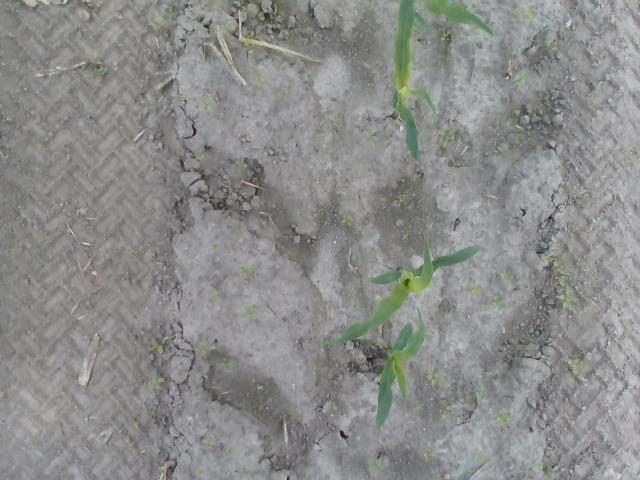Maize: (304, 230, 482, 347), (392, 2, 437, 161), (376, 303, 426, 428), (400, 0, 496, 38)
Weeds: (539, 254, 578, 309), (438, 125, 462, 152), (527, 462, 562, 478), (84, 58, 111, 78), (568, 356, 591, 377), (511, 5, 536, 22), (512, 70, 538, 86), (496, 407, 514, 430), (425, 371, 448, 388), (146, 338, 166, 357), (251, 70, 265, 96), (197, 340, 211, 364), (242, 32, 258, 52), (148, 16, 166, 33), (368, 458, 386, 475), (362, 127, 380, 144), (474, 382, 484, 409), (217, 358, 237, 371), (198, 96, 214, 112), (468, 283, 484, 299), (242, 304, 256, 322), (150, 376, 164, 393), (490, 296, 502, 315), (374, 335, 389, 349), (440, 408, 454, 422), (208, 291, 222, 305), (196, 145, 206, 164), (240, 266, 253, 280), (424, 451, 438, 463), (236, 158, 248, 172), (395, 192, 407, 206), (551, 38, 563, 52), (498, 271, 516, 280), (342, 212, 352, 228), (387, 442, 401, 453), (325, 400, 339, 411), (164, 10, 176, 20), (226, 448, 238, 458), (237, 472, 251, 480), (221, 24, 234, 32), (195, 470, 205, 480), (476, 451, 486, 460), (416, 402, 424, 412), (86, 310, 96, 318)
